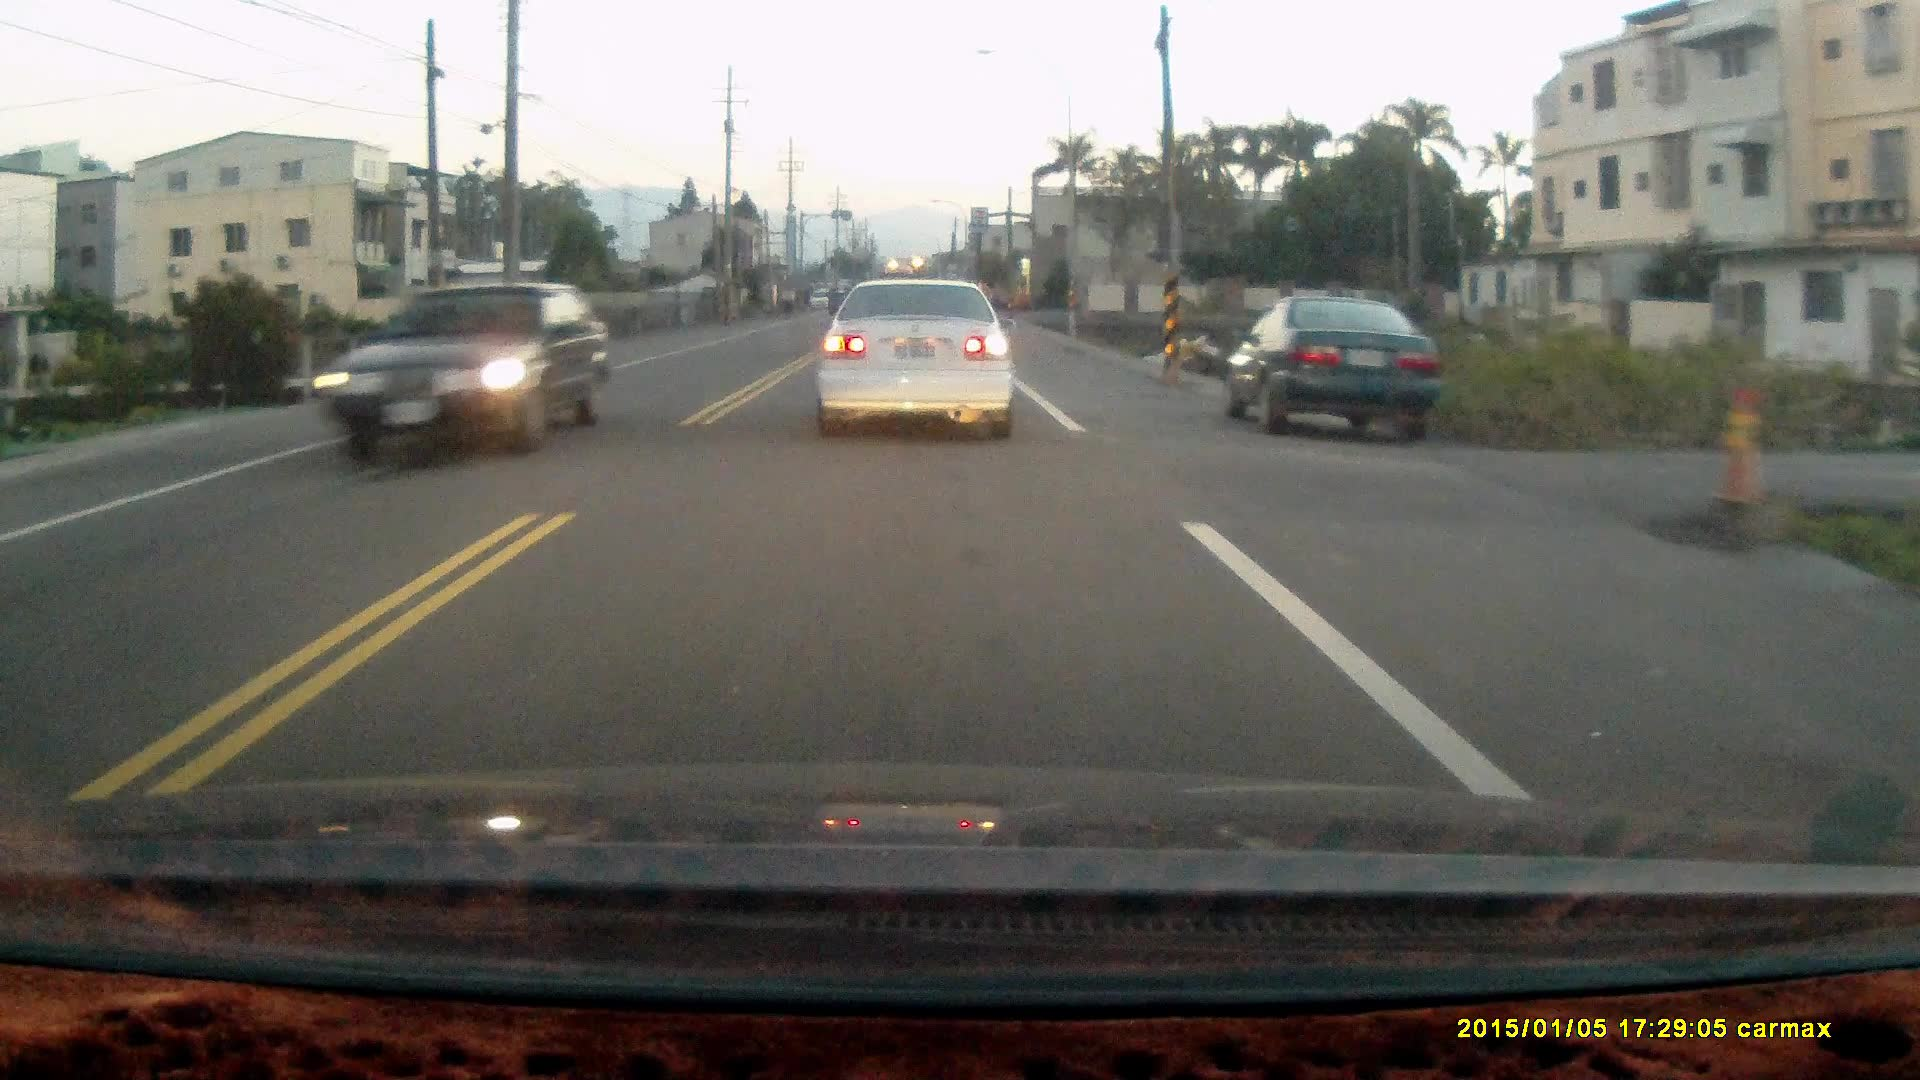vehicle: (309, 278, 611, 465), (814, 278, 1017, 444), (1226, 293, 1443, 443)
